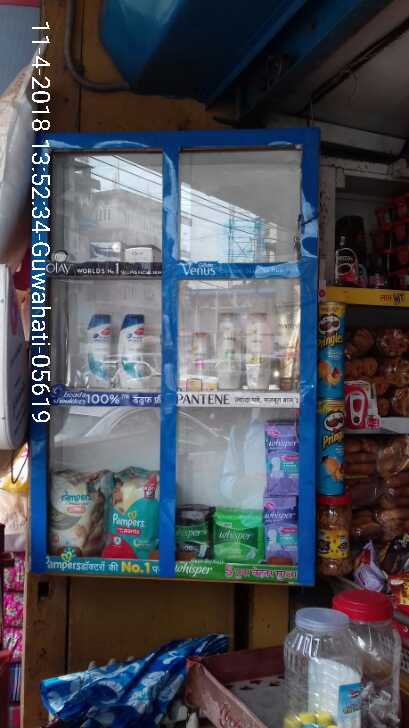venus: (220, 218, 260, 264)
